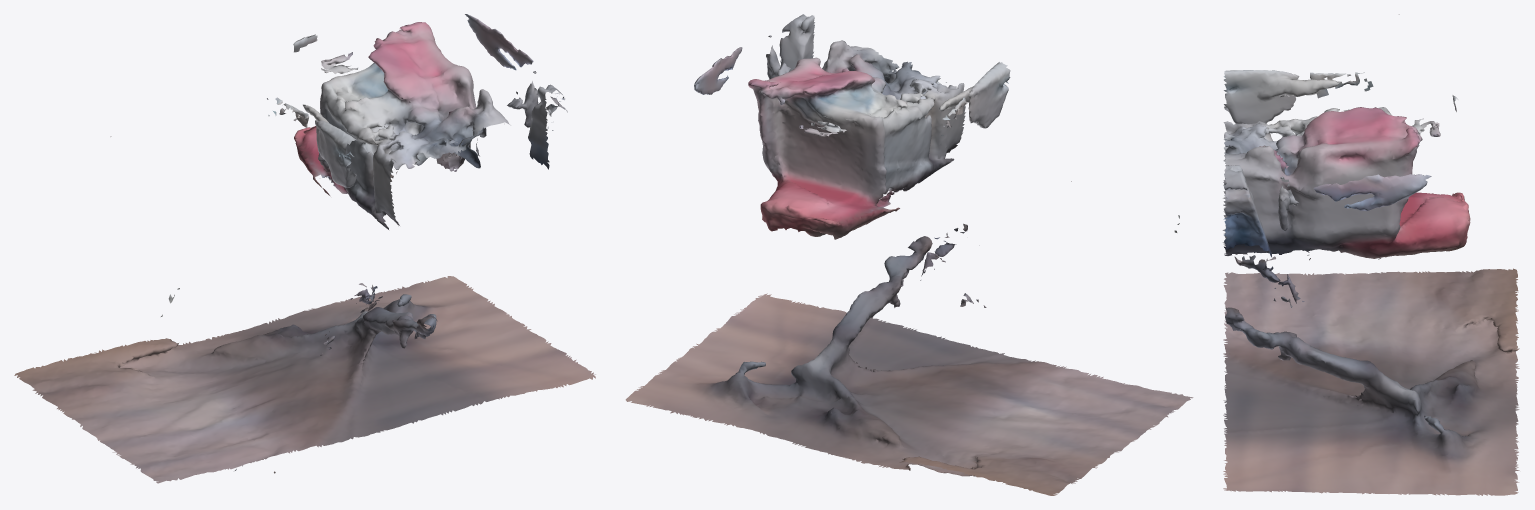
Rendered from apartment-full-30-2b0b82d2ace6.glb.
The picture shows the model from 3 angles, left to right: view 1: azimuth 30°, elevation 25°; view 2: azimuth 150°, elevation 25°; view 3: azimuth 270°, elevation 25°; orthographic projection. The views are drawn at different scales.
Size of the model in its own units: 1.12 by 0.851 by 0.645.
